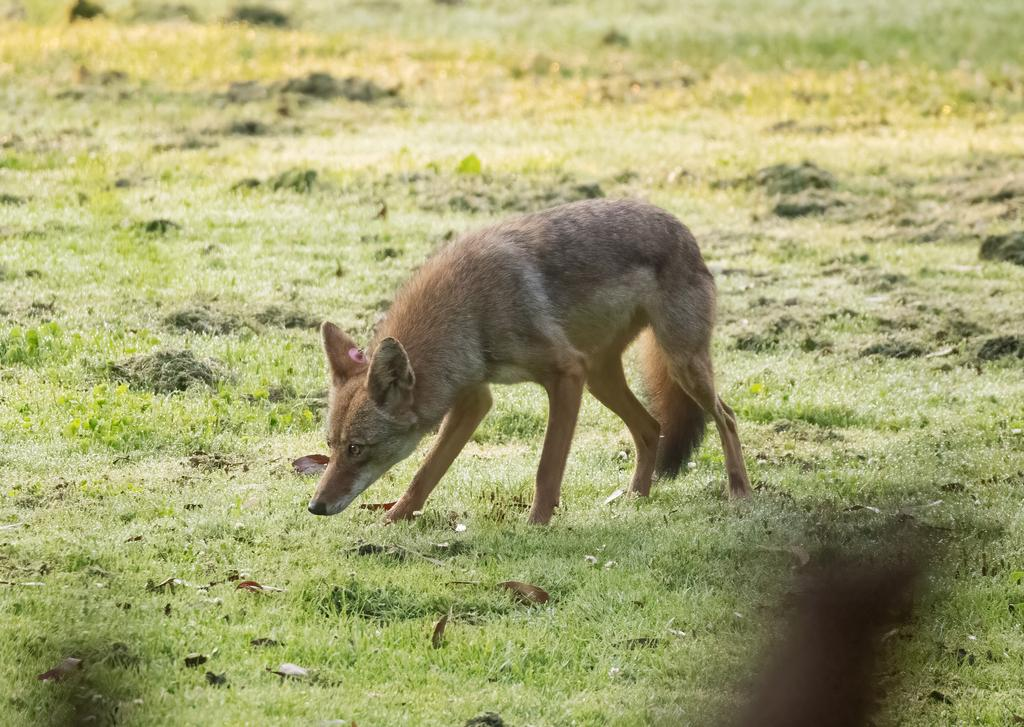Coyote: (305, 190, 753, 529)
